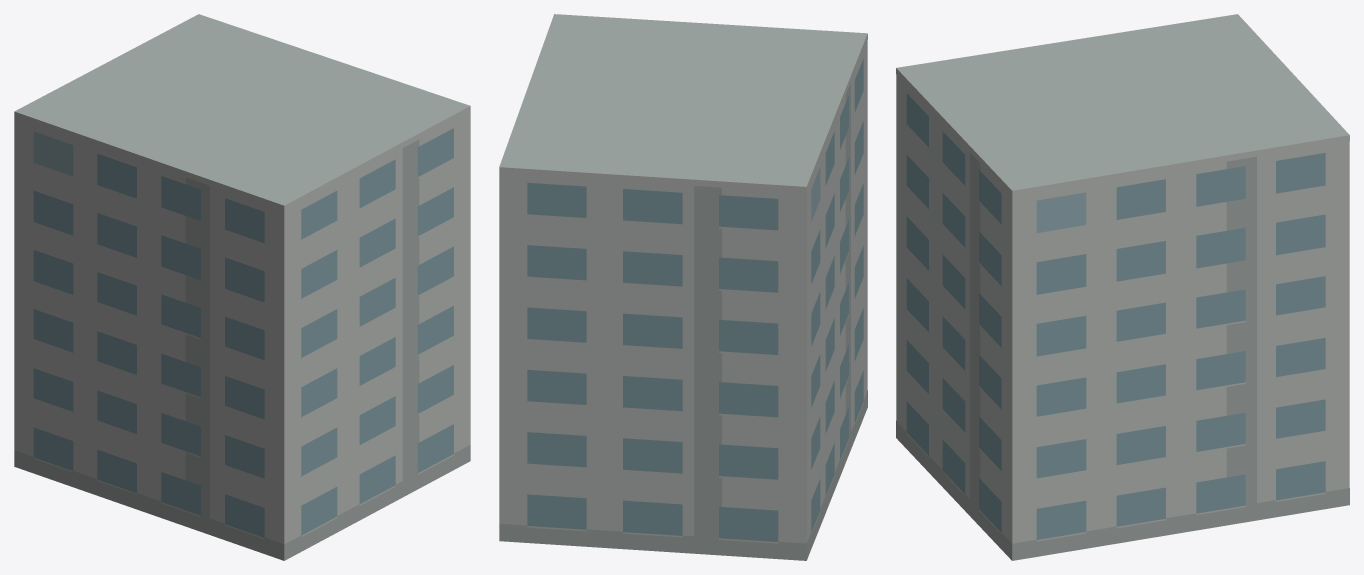
File: survey-upis-32888480.glb
3 views of the same model, side by side, from view 1: azimuth 30°, elevation 25°; view 2: azimuth 150°, elevation 25°; view 3: azimuth 270°, elevation 25° (orthographic). The views are drawn at different scales.
Visible parts, largest first — view 1: survey-upis-32888480.tmp; view 2: survey-upis-32888480.tmp; view 3: survey-upis-32888480.tmp.
Boxes of the visible parts, box(x1,y1,x2,y2) form: survey-upis-32888480.tmp: box(14, 14, 470, 560); survey-upis-32888480.tmp: box(499, 14, 867, 560); survey-upis-32888480.tmp: box(896, 14, 1349, 560).
Size of the model in its own units: 14.89 by 14.51 by 16.13.
